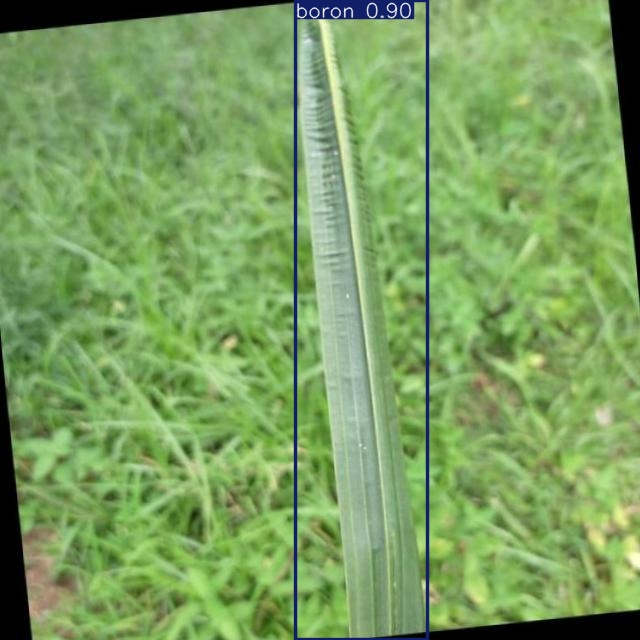nitrogen: (296, 0, 427, 639)
